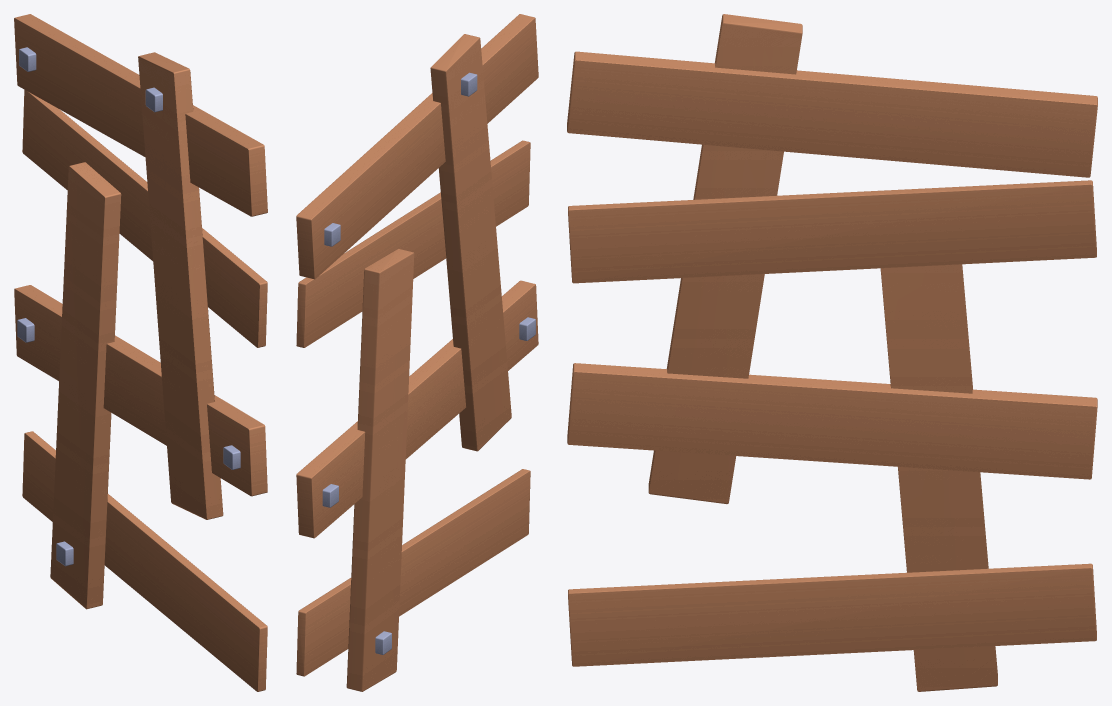
The model's file is barricade-doorway-c.glb.
3 views of the same model, side by side, from view 1: azimuth 30°, elevation 25°; view 2: azimuth 150°, elevation 25°; view 3: azimuth 270°, elevation 25° (orthographic). The views are drawn at different scales.
Parts seen in each view (by area): view 1: barricade-doorway-c; view 2: barricade-doorway-c; view 3: barricade-doorway-c.
Boxes of the visible parts, x1,y1,x2,y2 form: barricade-doorway-c: (14,14,267,691); barricade-doorway-c: (296,14,538,691); barricade-doorway-c: (567,14,1097,691).
Bounding box in the file's own units: 0.1 × 1.75 × 1.25.
1 material, 1 textured.
